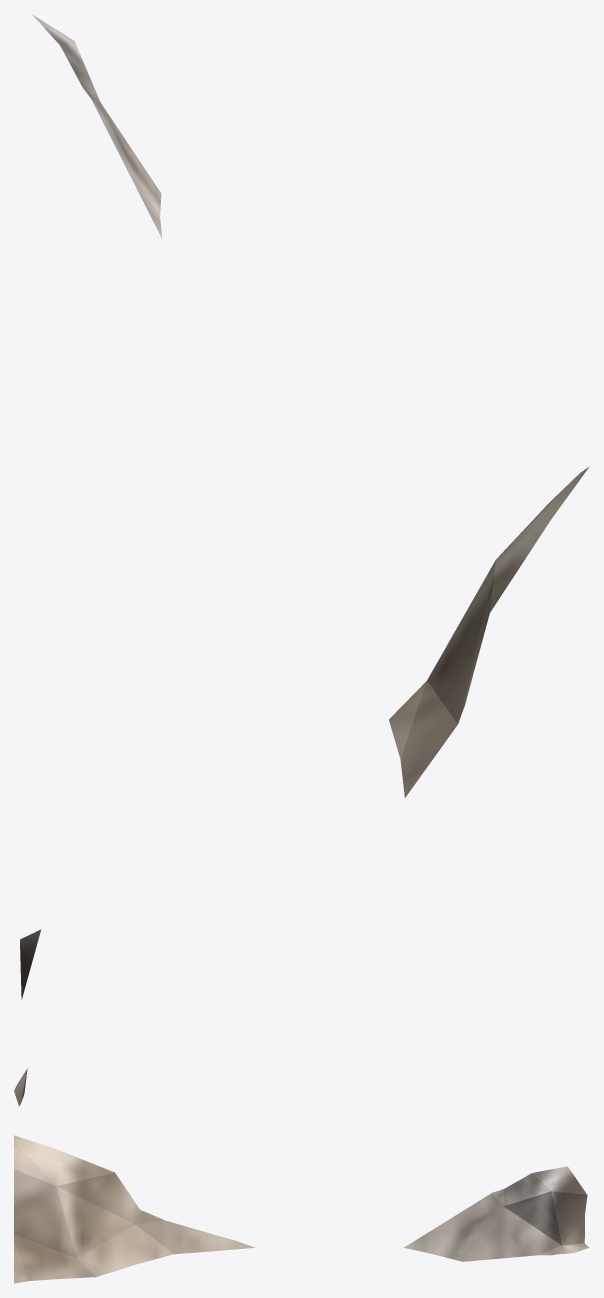
3 renders of one model, top to bottom at view 1: azimuth 30°, elevation 25°; view 2: azimuth 150°, elevation 25°; view 3: azimuth 270°, elevation 25°, orthographic. The views are drawn at different scales.
Bounding box in the file's own units: 0.1537 × 0.2241 × 1.04.
Materials: 1 (1 with a texture image).
